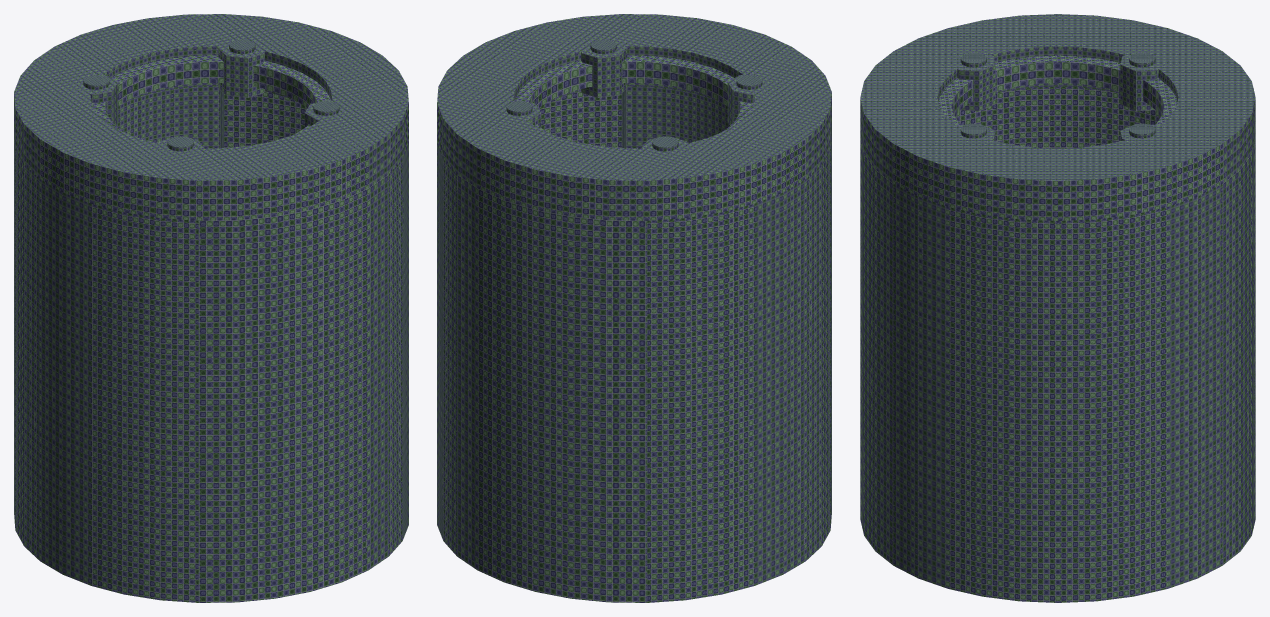
File: Galleria.FBX
3 renders of one model, left to right at view 1: azimuth 30°, elevation 25°; view 2: azimuth 150°, elevation 25°; view 3: azimuth 270°, elevation 25°, orthographic.
Parts seen in each view (by area): view 1: Shape035; view 2: Shape035; view 3: Shape035.
Boxes of the visible parts, x1,y1,x2,y2 form: Shape035: [14, 14, 408, 602]; Shape035: [437, 14, 831, 602]; Shape035: [860, 14, 1255, 602].
Bounding box in the file's own units: 898 × 1067 × 898.
1 material, 1 textured.
